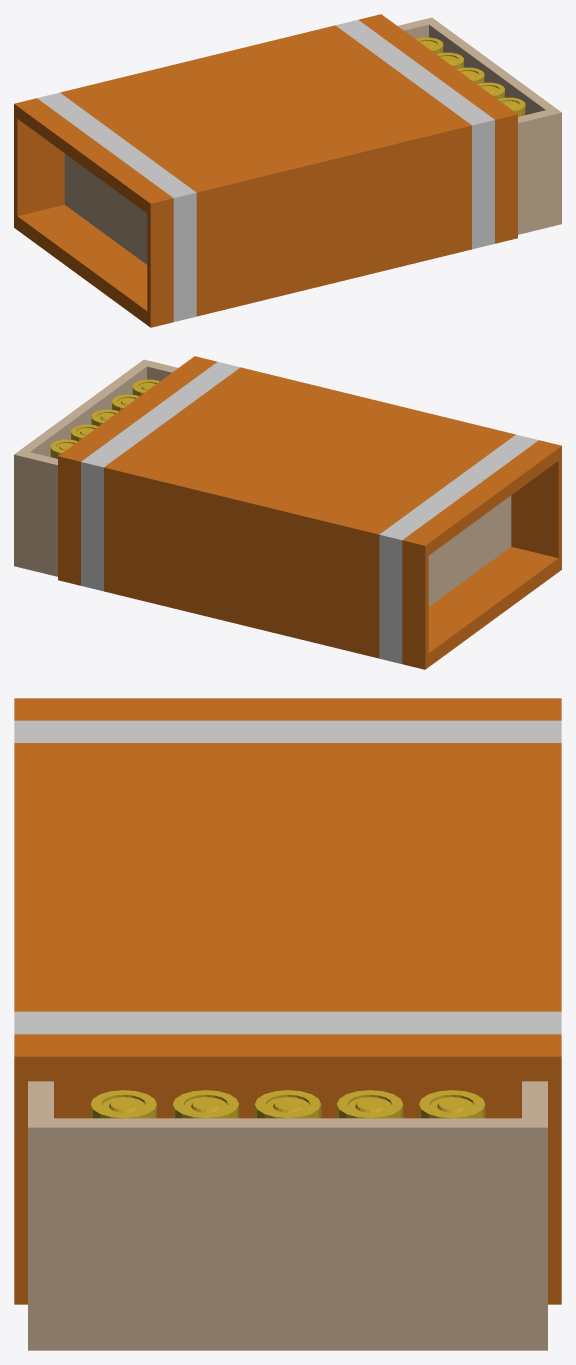
Rendered from 9mm ammo.fbx.
The picture shows the model from 3 angles, top to bottom: view 1: azimuth 30°, elevation 25°; view 2: azimuth 150°, elevation 25°; view 3: azimuth 270°, elevation 25°; orthographic projection. The views are drawn at different scales.
Parts seen in each view (by area): view 1: Ammo 9mm; view 2: Ammo 9mm; view 3: Ammo 9mm.
Part boxes in pixels (left/top/right/bottom): Ammo 9mm: left=14, top=14, right=561, bottom=327; Ammo 9mm: left=14, top=356, right=561, bottom=669; Ammo 9mm: left=14, top=698, right=561, bottom=1350.
Bounding box in the file's own units: 67.2 × 19.2 × 38.4.
